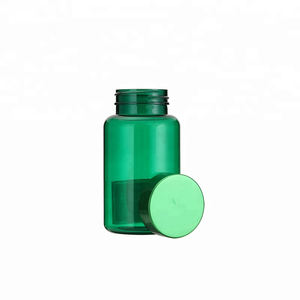plastic_bottle: (66, 44, 231, 300)
